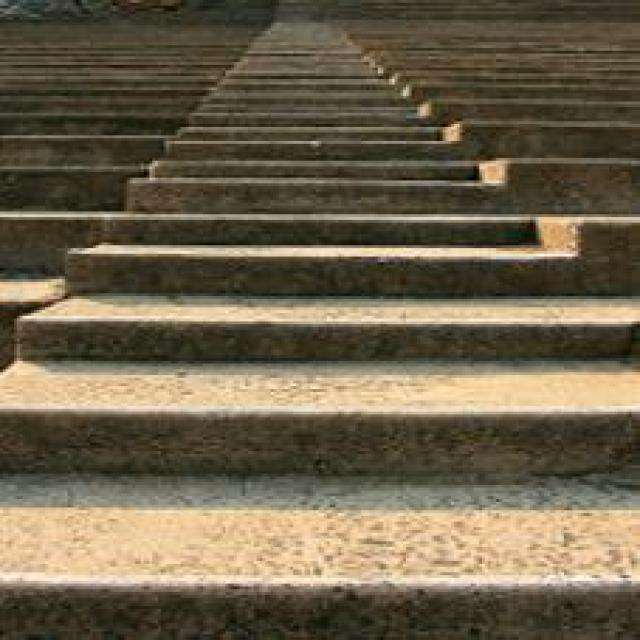upstair: (26, 235, 627, 503)
